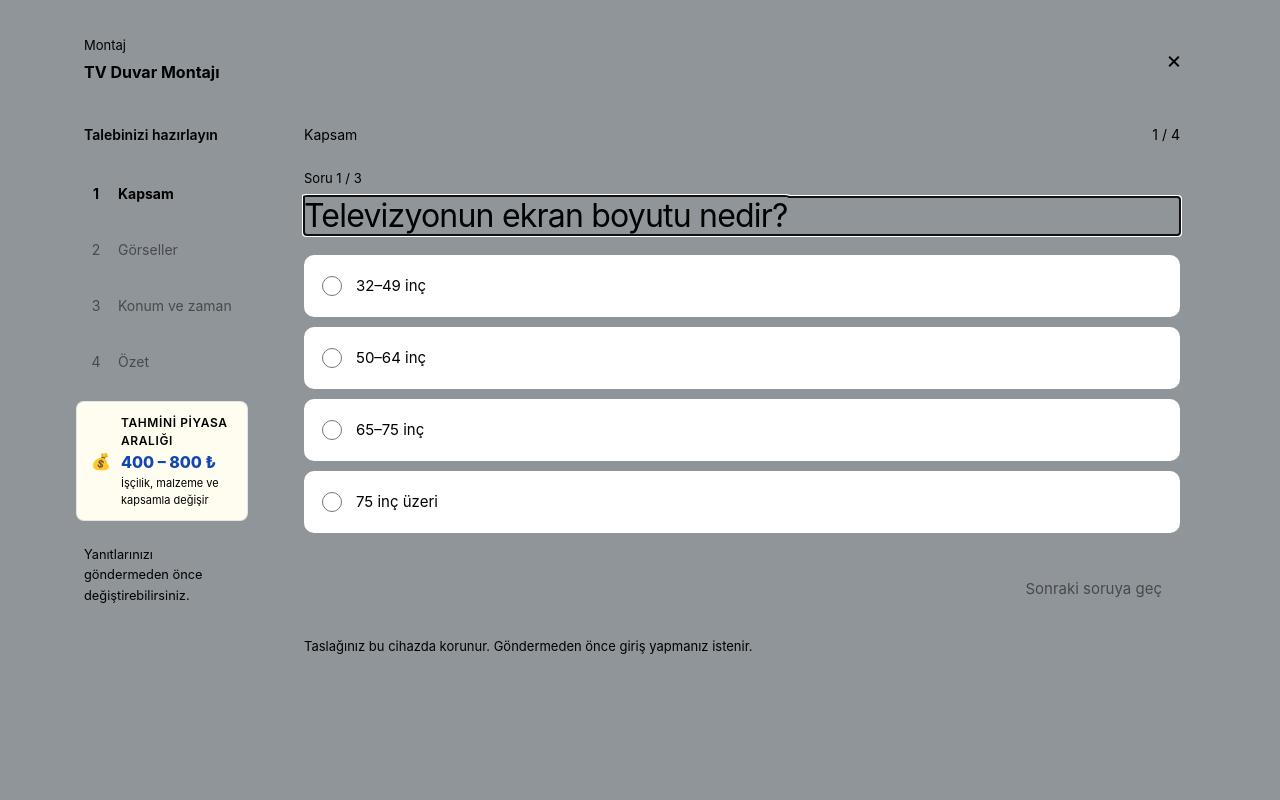
it: RequestWizard › explains the account and optional media requirements before submission
Check: the text "Göndermeden önce giriş yapmanız istenir" is shown, box x1=304 y1=638 x2=752 y2=654
Click the radio button labelled "32–49 inç".
click(332, 286)  # box x1=322 y1=276 x2=342 y2=296
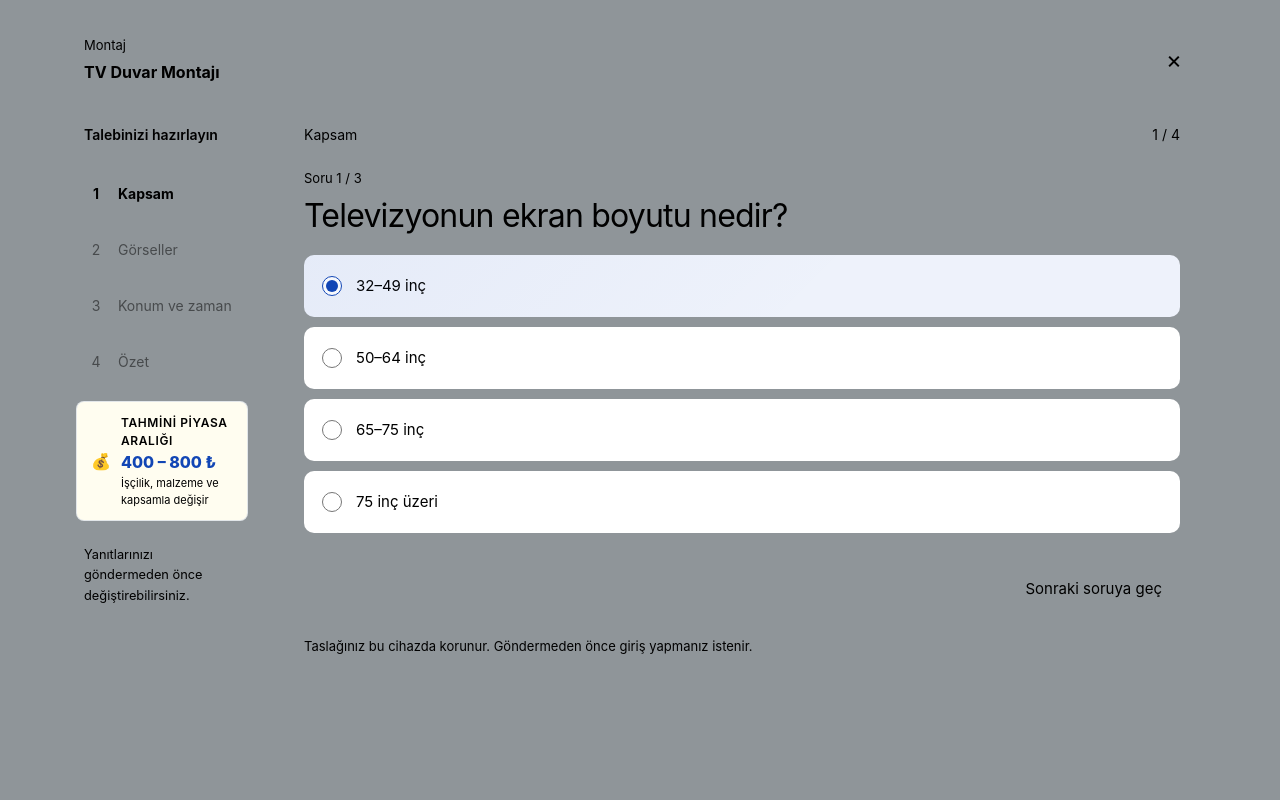
Click the button "Sonraki soruya geç".
click(1094, 589)  # box x1=1007 y1=565 x2=1180 y2=613
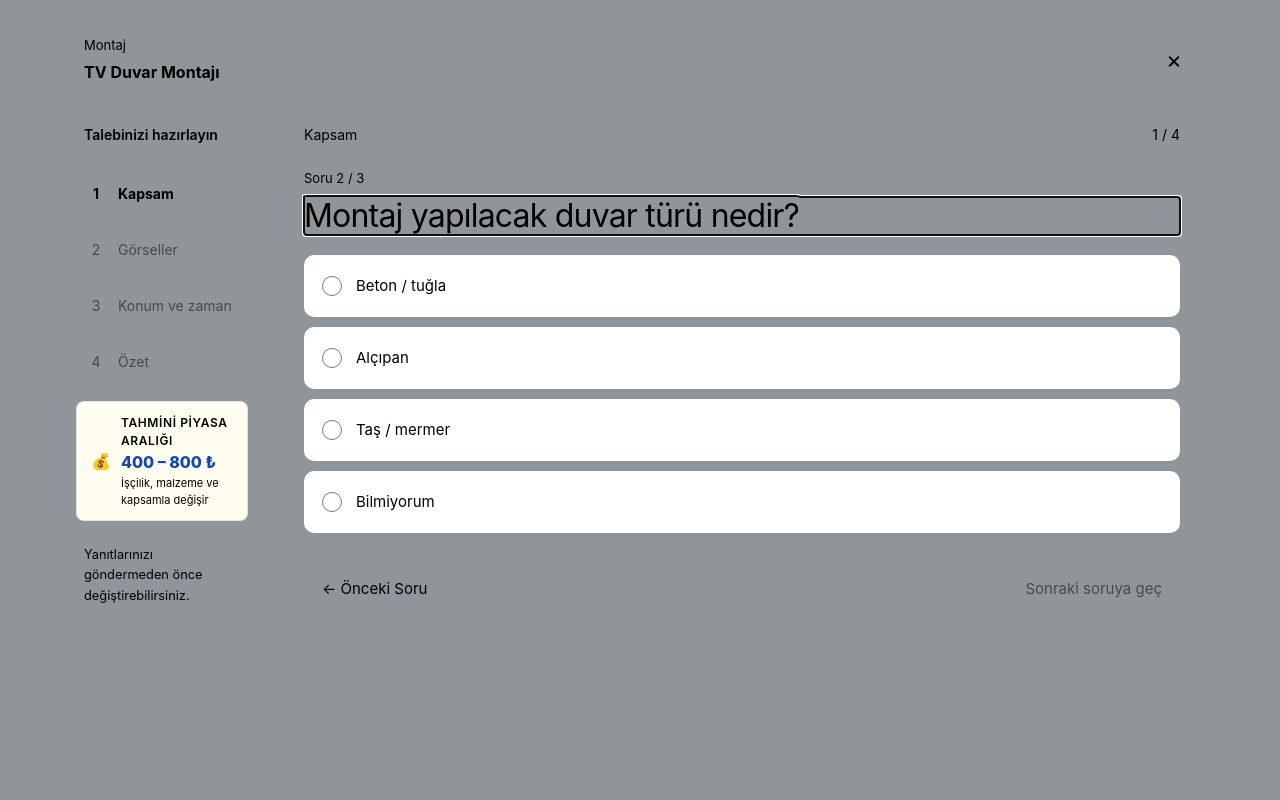
Click the radio button labelled "Beton / tuğla".
click(332, 286)  # box x1=322 y1=276 x2=342 y2=296
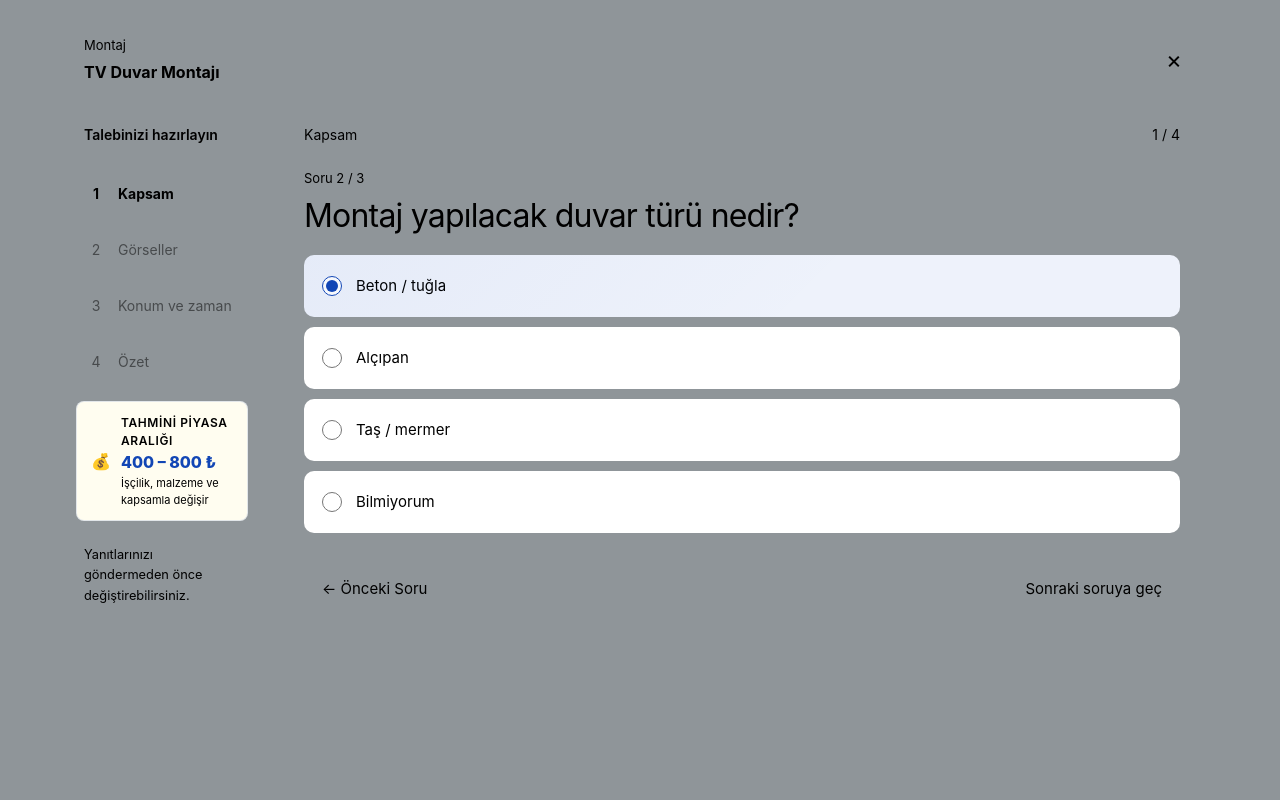
Click the button "Sonraki soruya geç".
click(1094, 589)  # box x1=1007 y1=565 x2=1180 y2=613
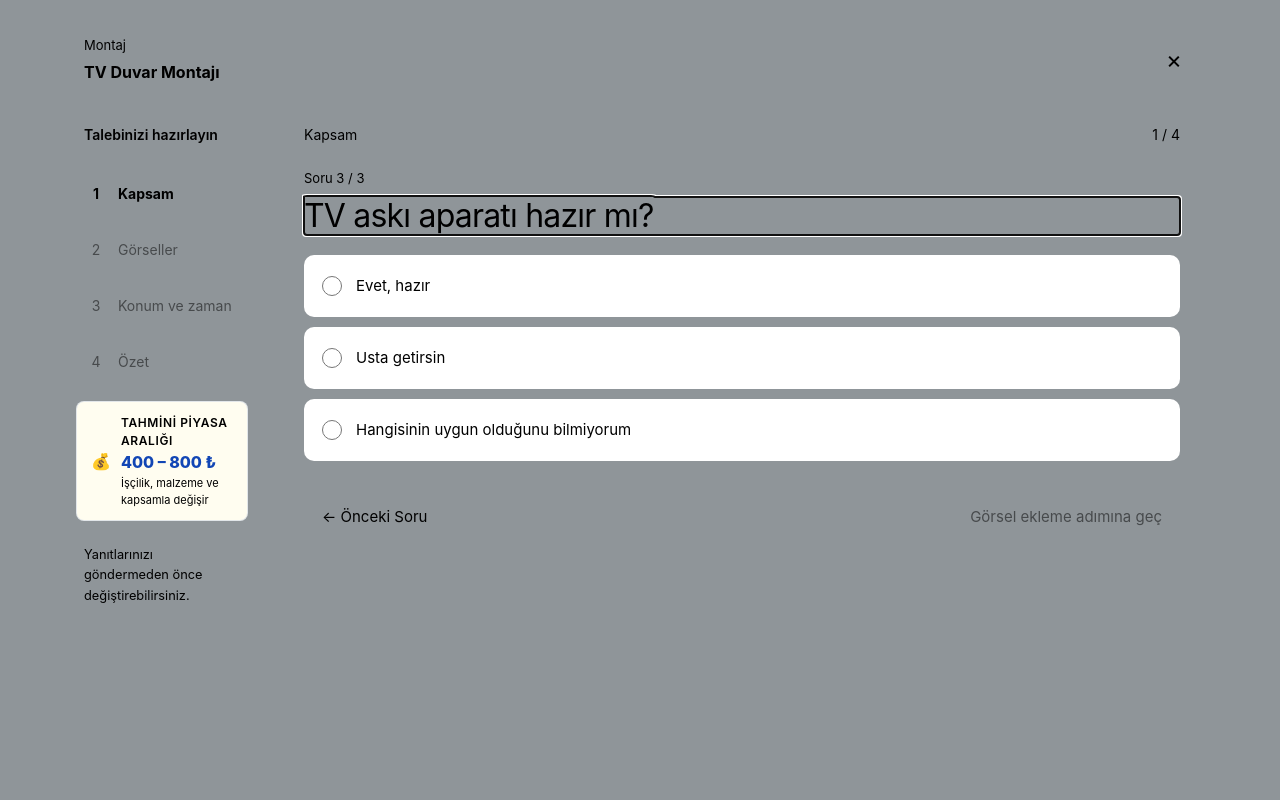
Click the radio button labelled "Evet, hazır".
click(332, 286)  # box x1=322 y1=276 x2=342 y2=296
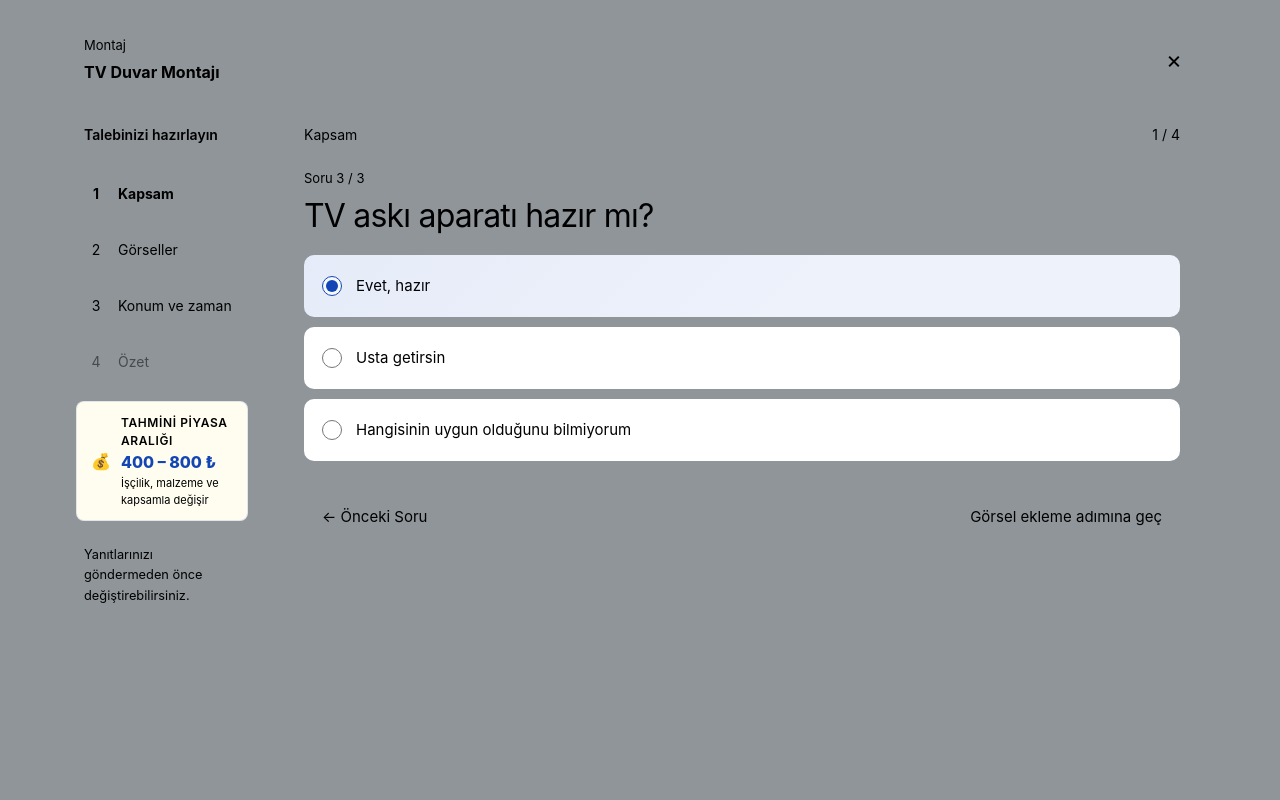
Click the button "Görsel ekleme adımına geç".
click(1066, 517)  # box x1=952 y1=493 x2=1180 y2=541
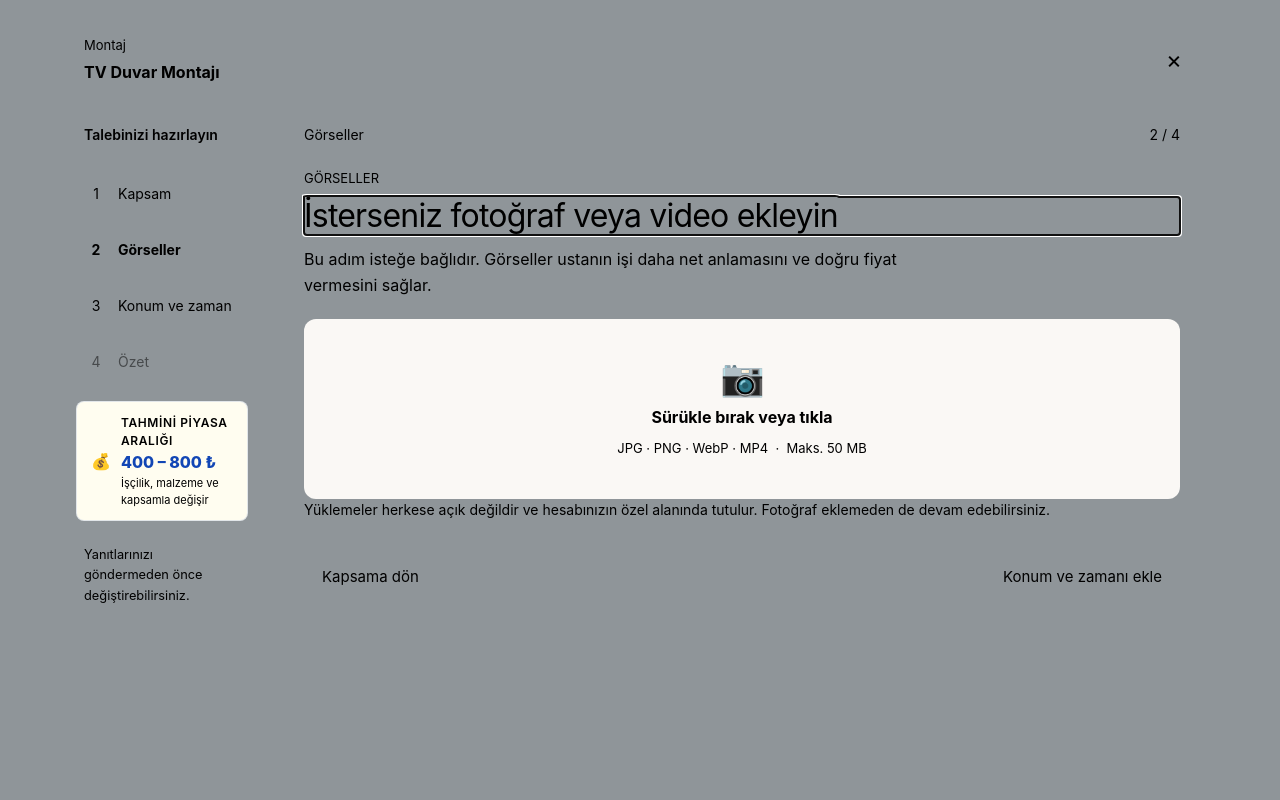
Check: the dialog named "İsterseniz fotoğraf veya video ekleyin" is shown
Check: the text "Yüklemeler herkese açık değildir" is shown, box x1=304 y1=501 x2=1050 y2=518
